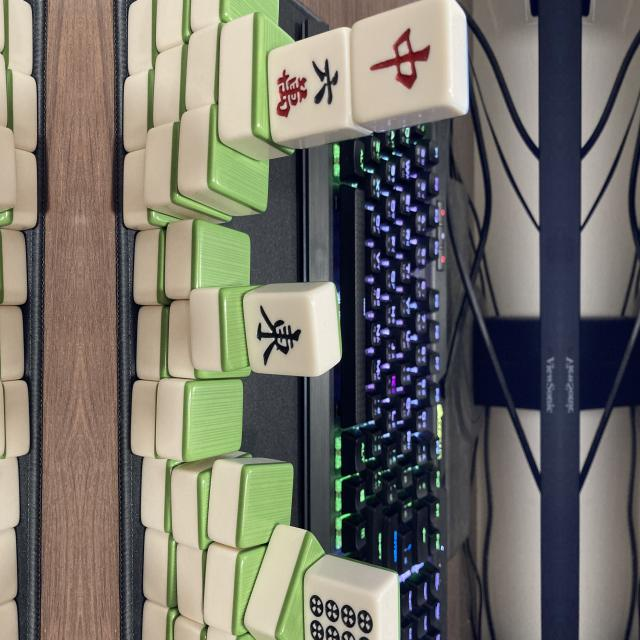east: (244, 294, 313, 376)
m6: (268, 44, 344, 128)
t8: (306, 579, 381, 640)
zhong: (352, 1, 451, 120)
